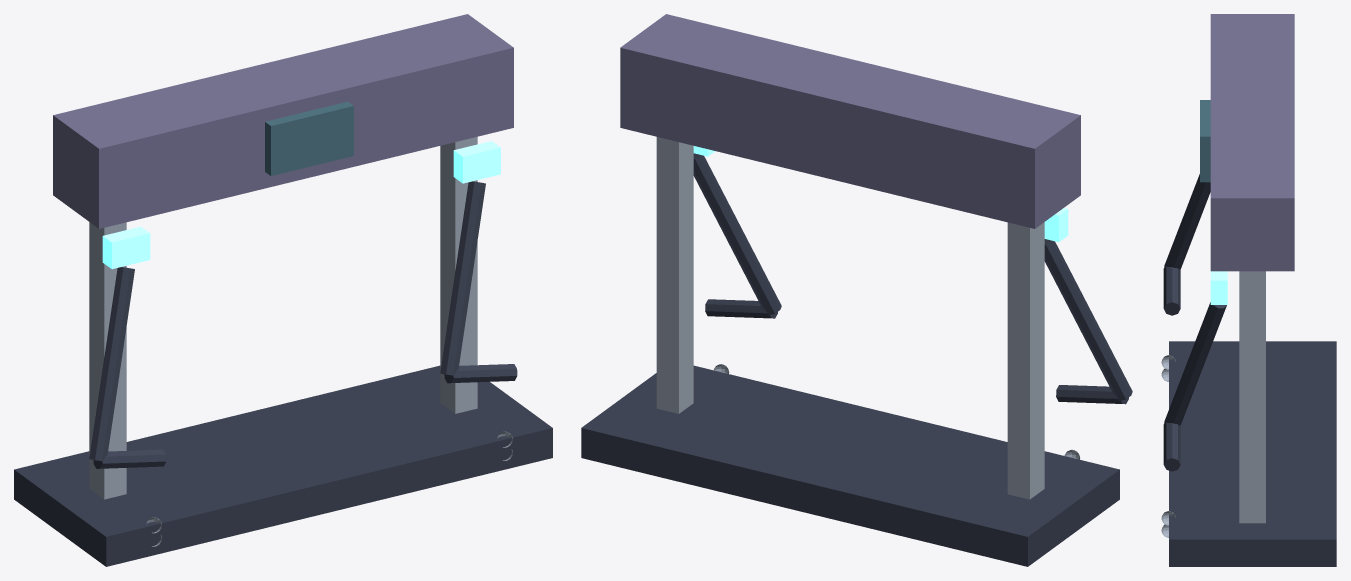
The model's file is neon-dispatch-scooter-charging-stand__188.glb.
The picture shows the model from 3 angles, left to right: view 1: azimuth 30°, elevation 25°; view 2: azimuth 150°, elevation 25°; view 3: azimuth 270°, elevation 25°; orthographic projection. The views are drawn at different scales.
Visible parts, largest first — view 1: dark, shell, metal, glass, light; view 2: dark, shell, metal, light; view 3: dark, shell, metal, glass, light.
Part boxes in pixels (left/top/right/bottom): dark: left=14, top=181, right=552, bottom=566; shell: left=53, top=14, right=513, bottom=228; metal: left=89, top=136, right=512, bottom=546; glass: left=265, top=101, right=353, bottom=175; light: left=102, top=141, right=500, bottom=269; dark: left=581, top=153, right=1132, bottom=566; shell: left=620, top=14, right=1080, bottom=228; metal: left=656, top=137, right=1079, bottom=499; light: left=693, top=146, right=1068, bottom=242; dark: left=1163, top=174, right=1336, bottom=566; shell: left=1210, top=14, right=1294, bottom=271; metal: left=1161, top=271, right=1265, bottom=537; glass: left=1200, top=100, right=1210, bottom=182; light: left=1210, top=271, right=1227, bottom=304.
Size of the model in its own units: 1.44 by 1.19 by 0.522.
